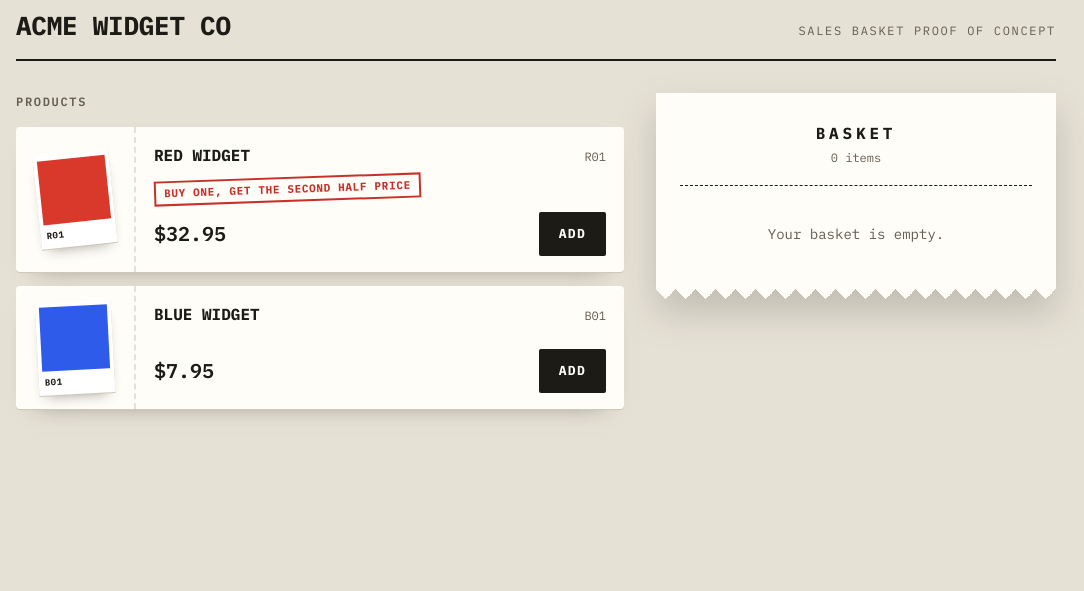
Test: App › shows an error instead of a stale total and hints when a quote fails
This screenshot has width=1084, height=591.
Click the button with aria-label "Add Red Widget to basket": (572, 234) [539,212,606,256]
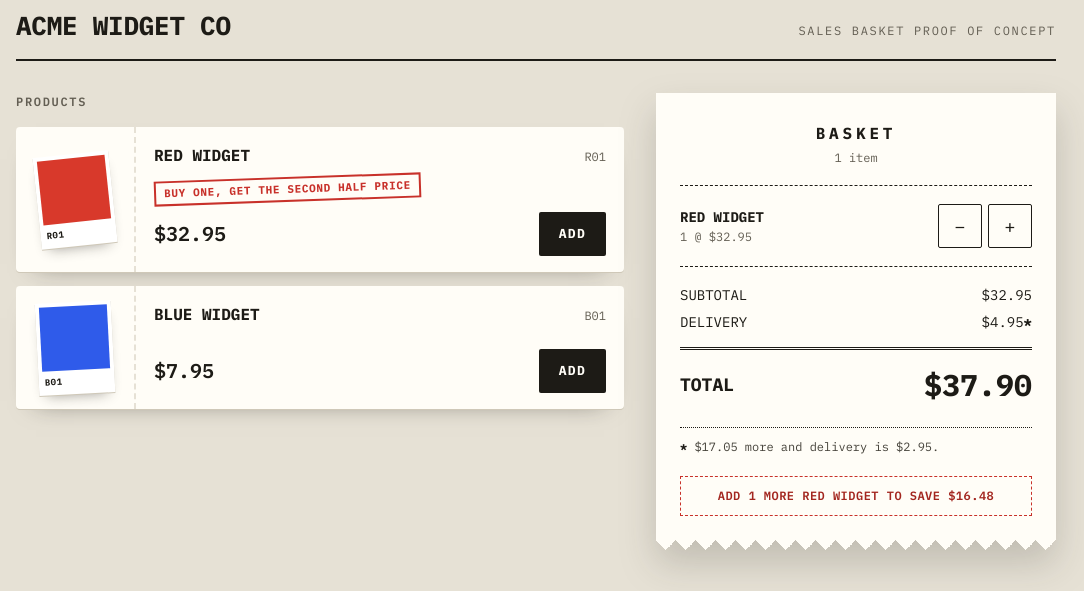
Click the button with aria-label "Add Red Widget to basket": (572, 234) [539,212,606,256]
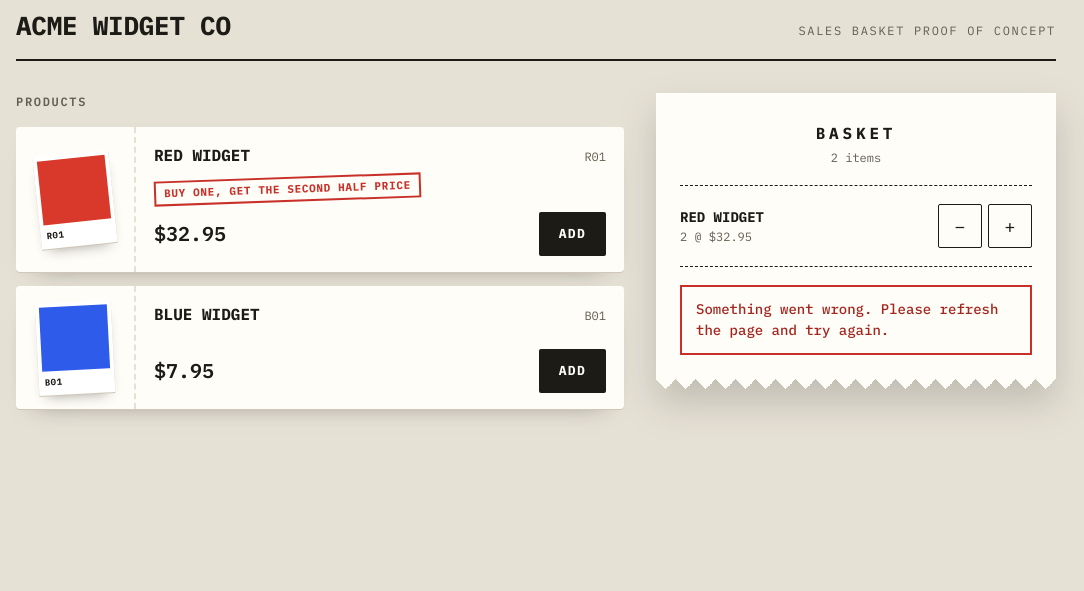
Now the message shows "Something went wrong", box [696,300,998,339]
Now the text "total" is gone
Now the text "$17.05 more and delivery is $2.95." is gone
